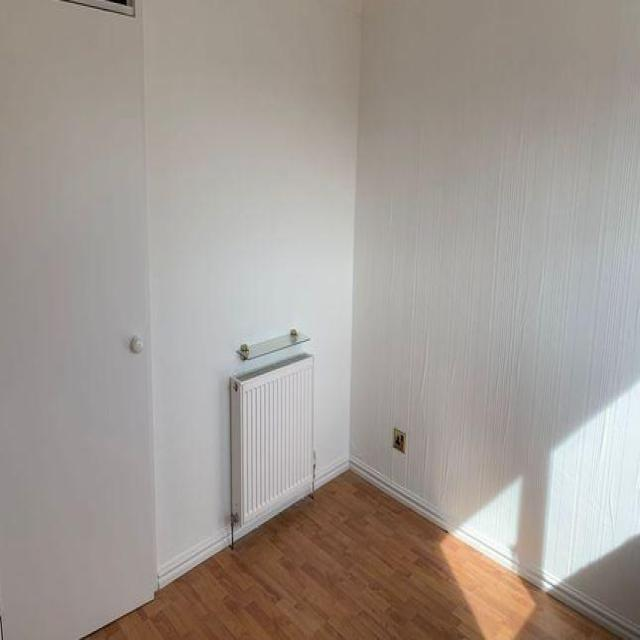Wall: (353, 2, 640, 633), (144, 3, 361, 586), (90, 473, 614, 638)
